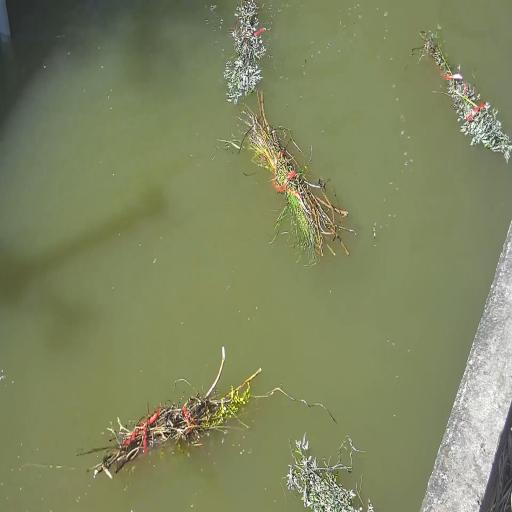twig: (90, 347, 261, 477), (245, 93, 353, 260), (413, 32, 512, 161), (286, 433, 361, 512), (223, 0, 266, 104)
